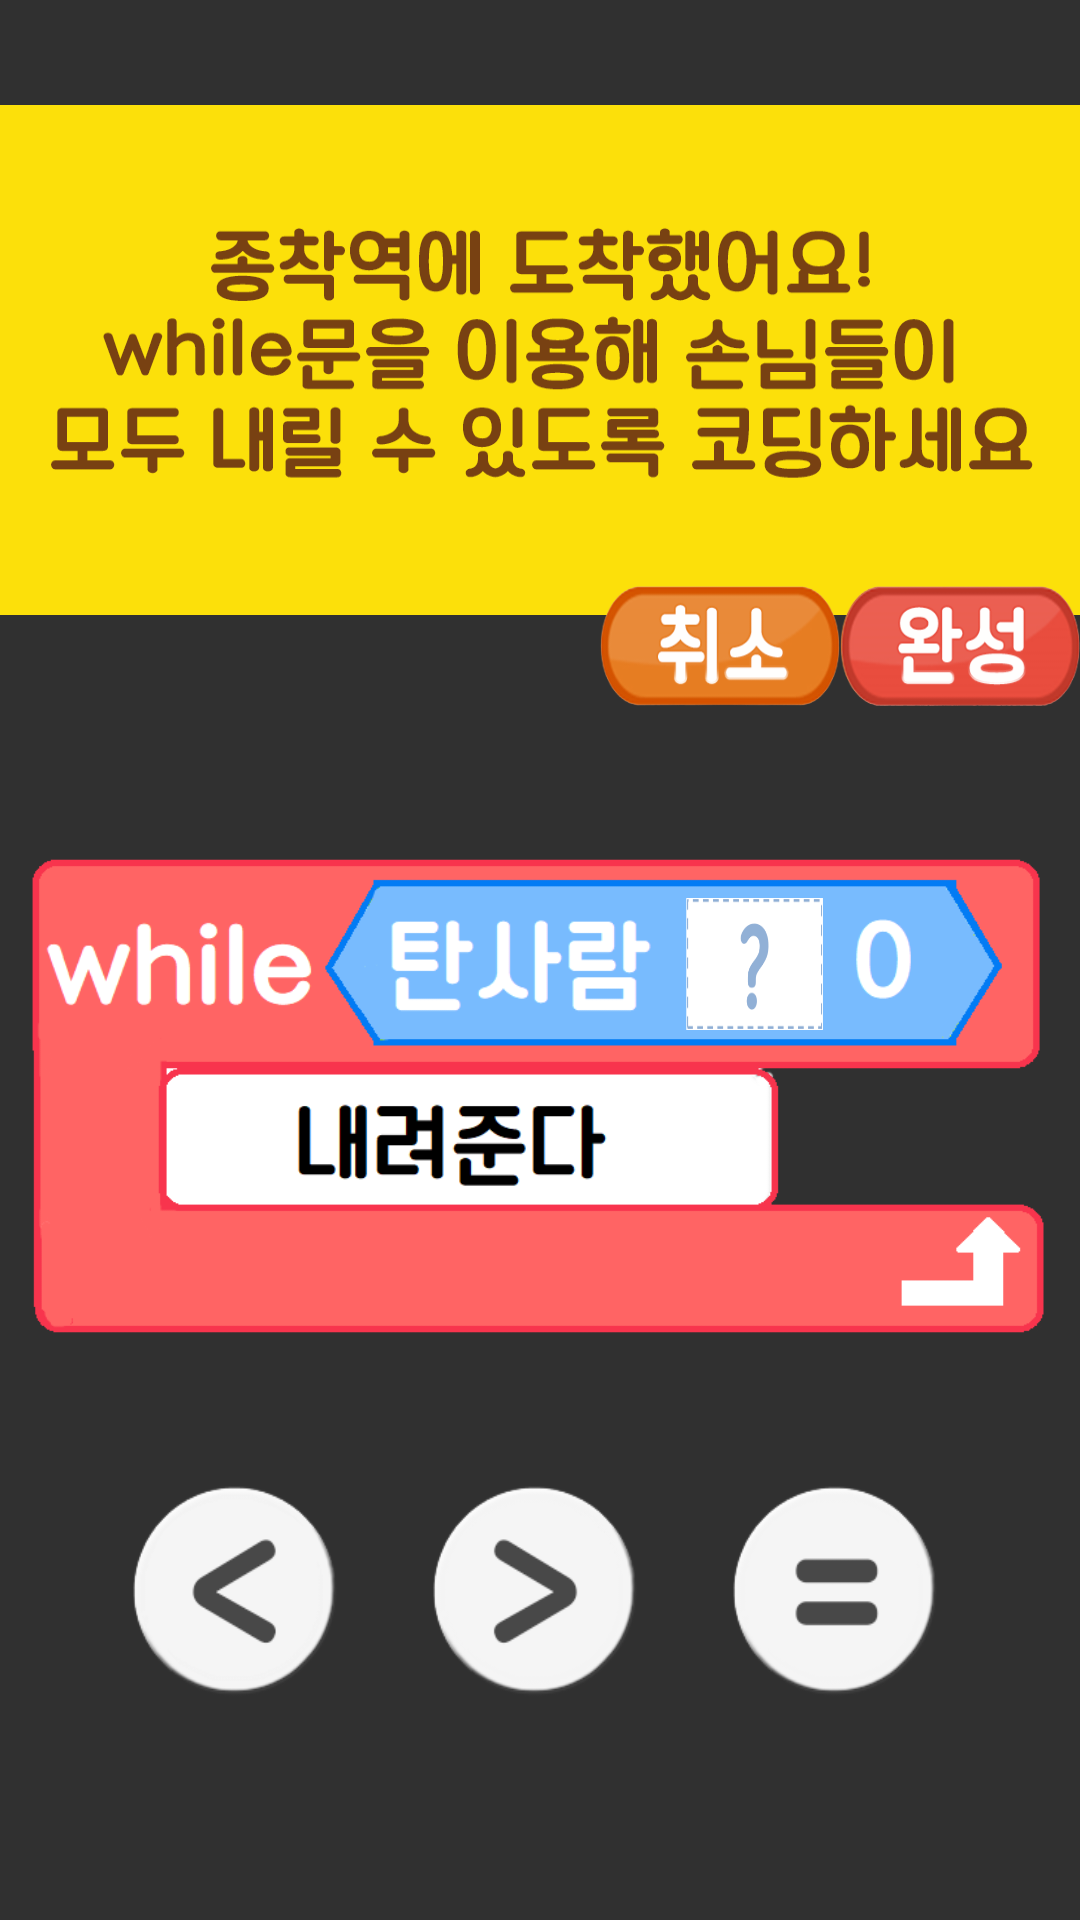

Point at icon controls on the screen. Image size 1080 × 1920, points as (x=x, y=y).
question: (x=754, y=964)
same: (x=834, y=1589)
